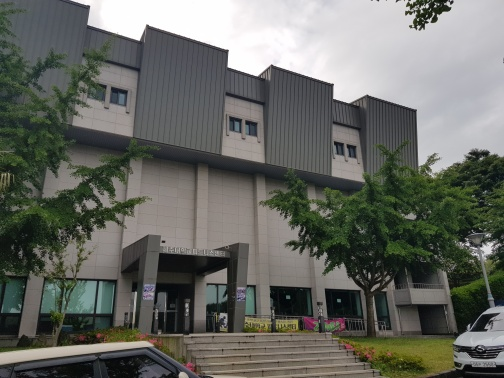Gym: (9, 8, 457, 334), (136, 26, 422, 189), (123, 232, 249, 330)
